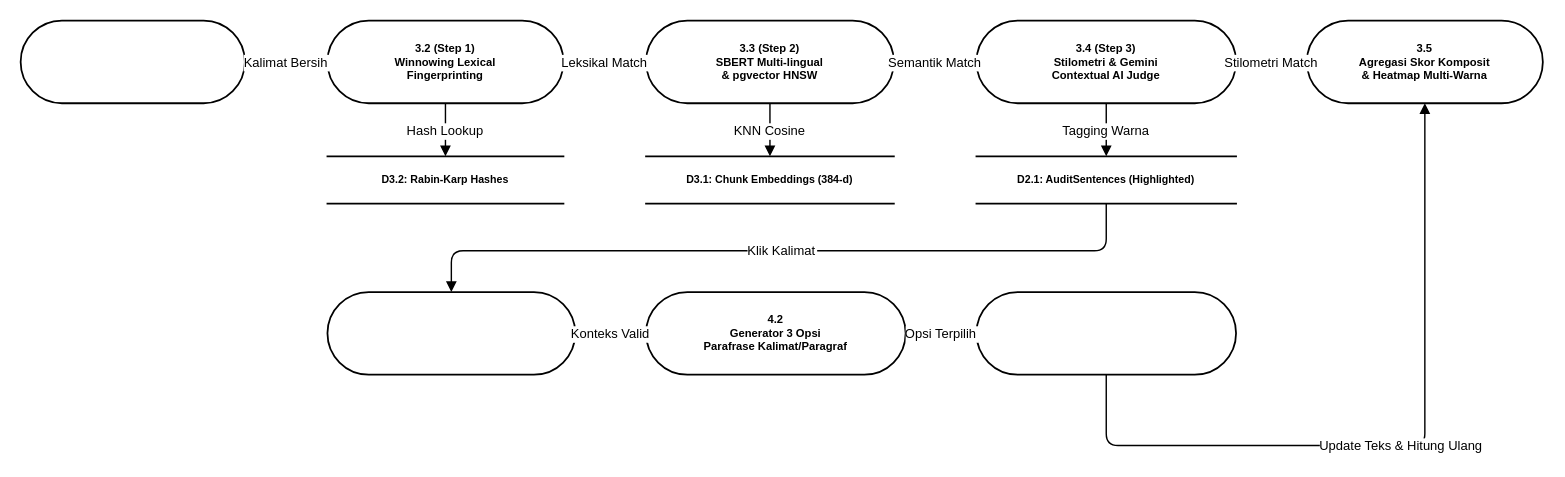
The diagram is 1565 pixels wide and 477 high, and some of its shapes have lost their labels. Here are the shapes that lost their labels. From the top down, the centre of each, then its label:
the point at 132,61: 3.1 Segmentasi Kalimat & Normalisasi Teks
the point at 451,333: 4.1 Academic Guardrail & Prompt Validator
the point at 1105,333: 4.3 Terapkan ke Naskah & Hitung Ulang Skor In-Place
